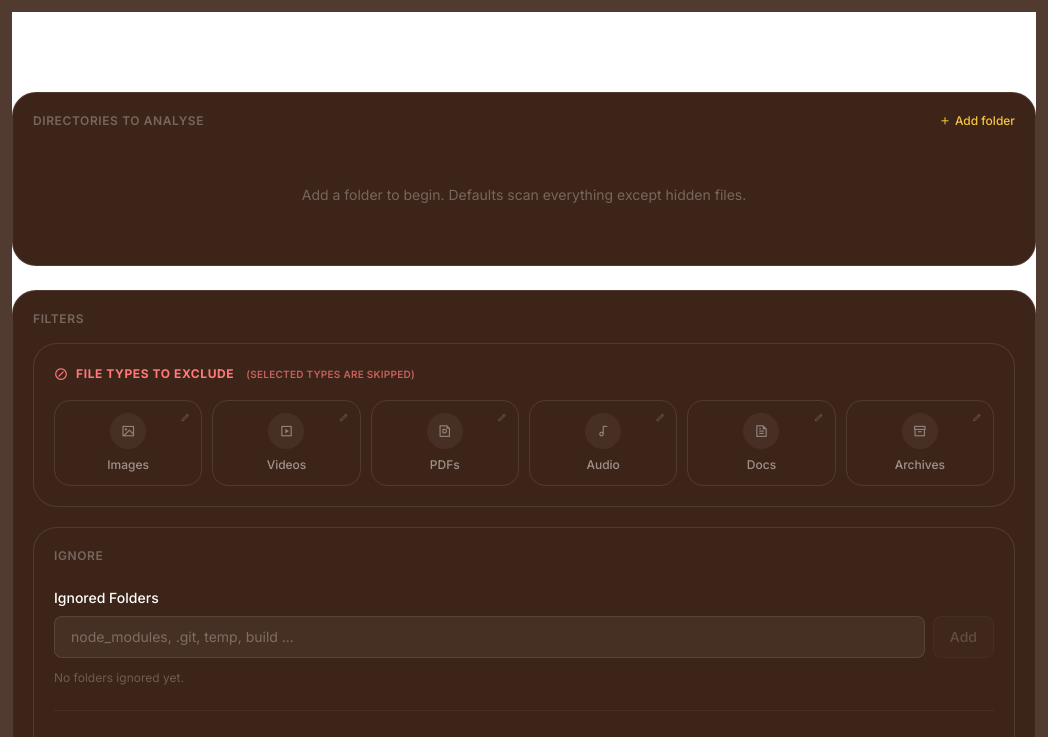
it: AnalysisView › updates per-folder file counts from progress events while scanning
The width and height of the screenshot is (1048, 737).
Click the button "Add folder" at point(977, 121), box [939,113,1015,129]
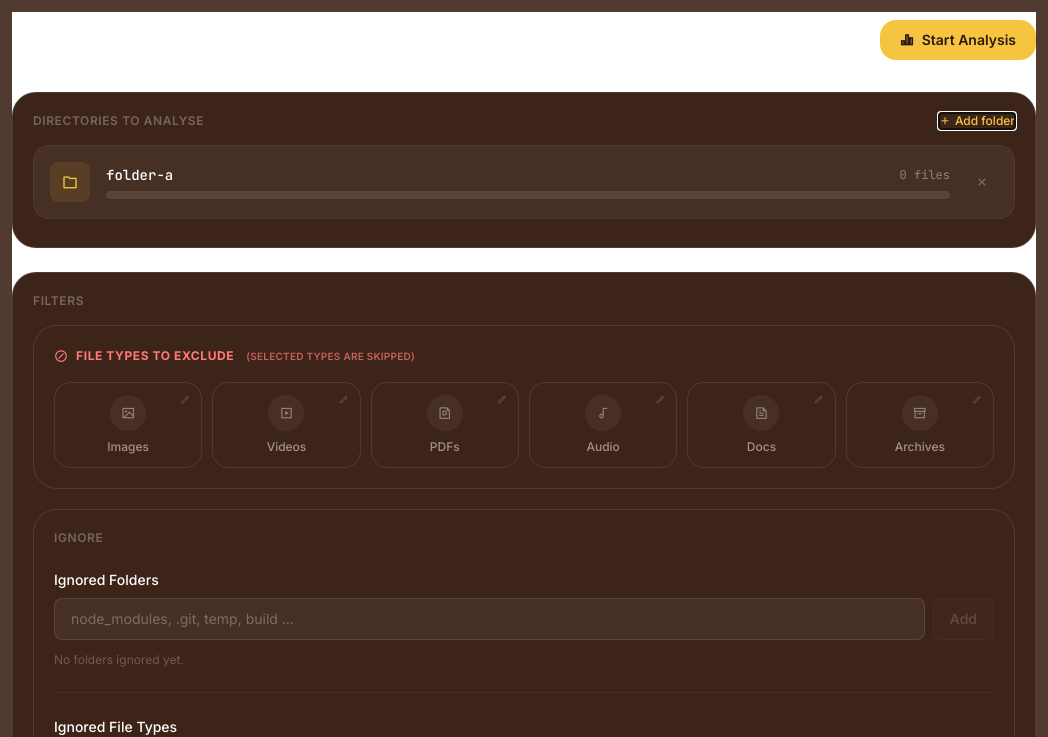
Click the button "Add folder" at point(977, 121), box [939,113,1015,129]
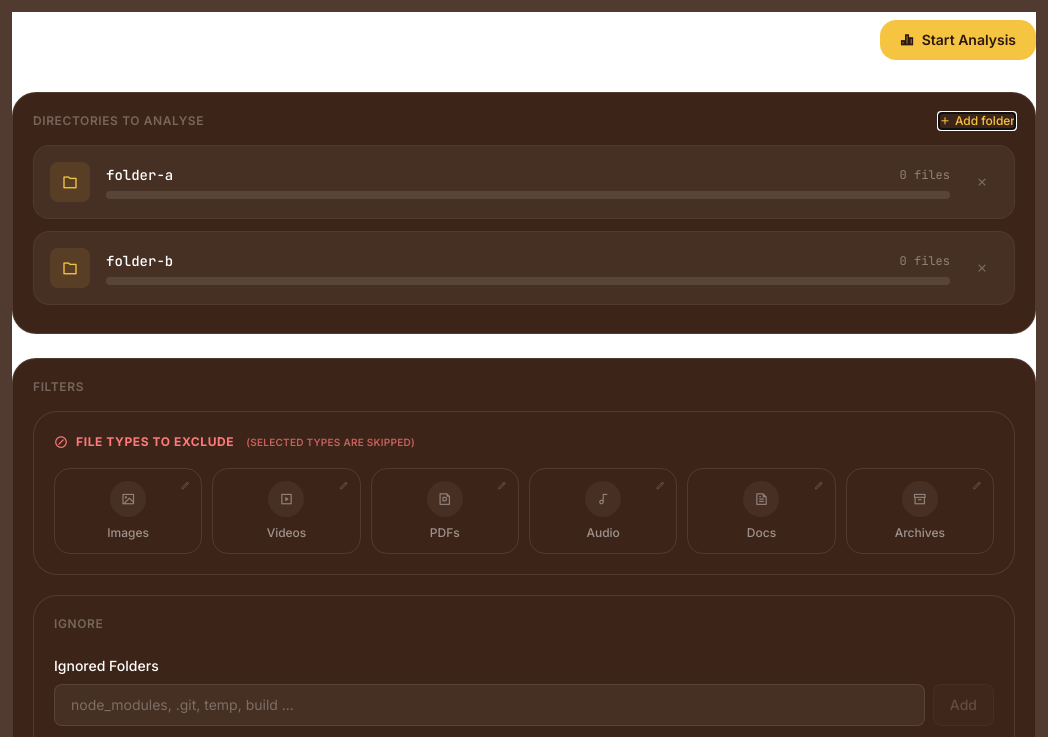
Click the button "Start Analysis" at point(958, 40), box [880,20,1036,60]
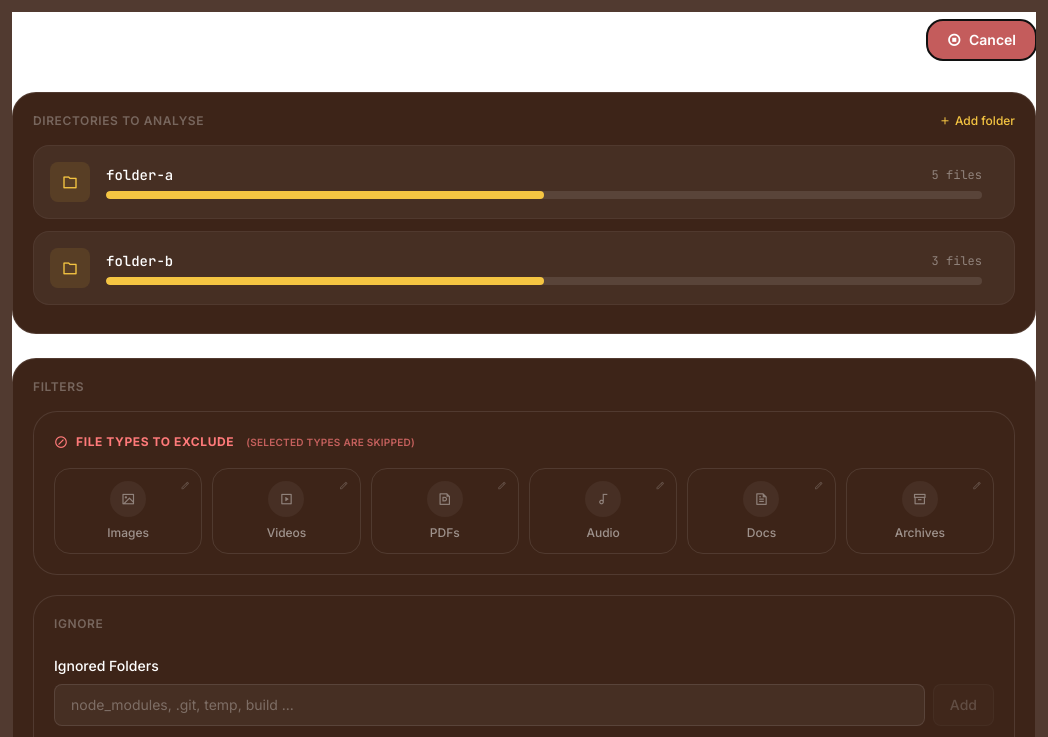
expect the text "5 files" is shown: met, box [932,167,982,183]
expect the text "3 files" is shown: met, box [932,253,982,269]
